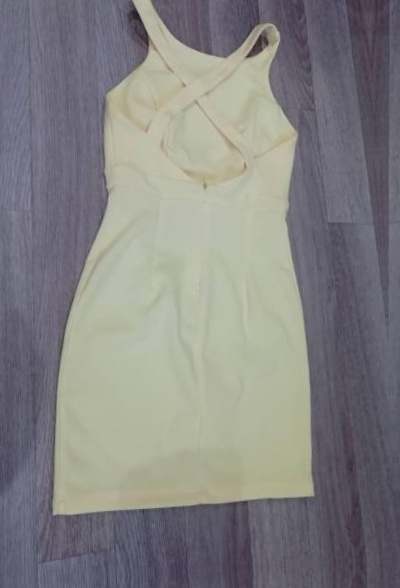Dress: (15, 0, 341, 545)
